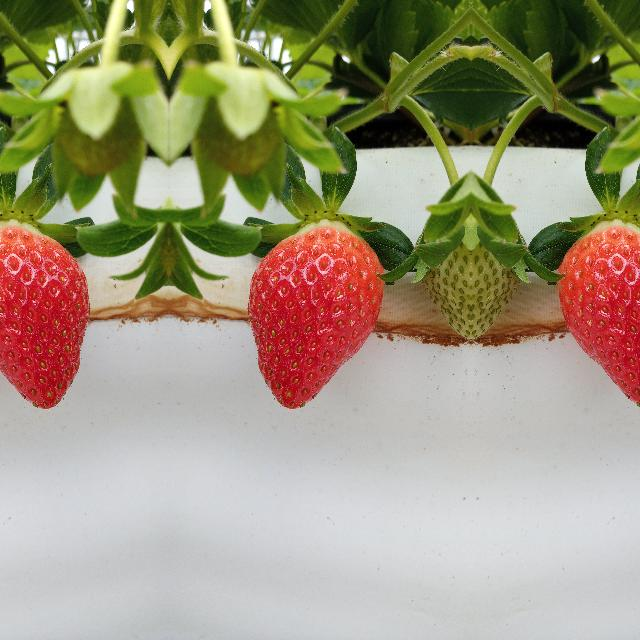Health_100: (246, 218, 384, 410), (0, 218, 90, 410), (556, 218, 640, 410)
Health_25: (436, 228, 470, 344), (471, 228, 505, 344)
